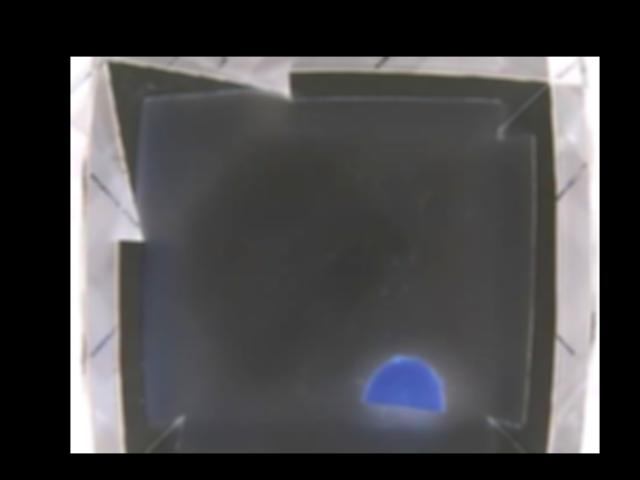Potato: (363, 354, 446, 416)
